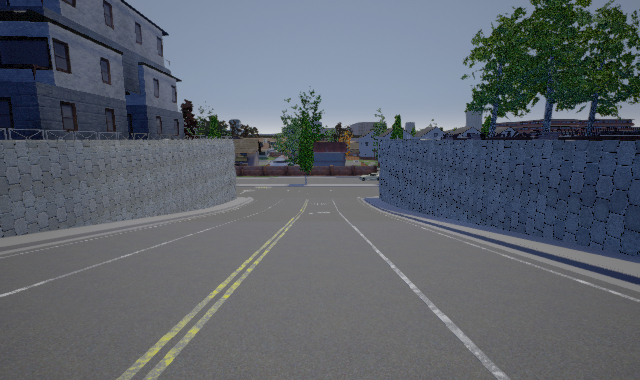vehicle: (359, 171, 380, 183)
